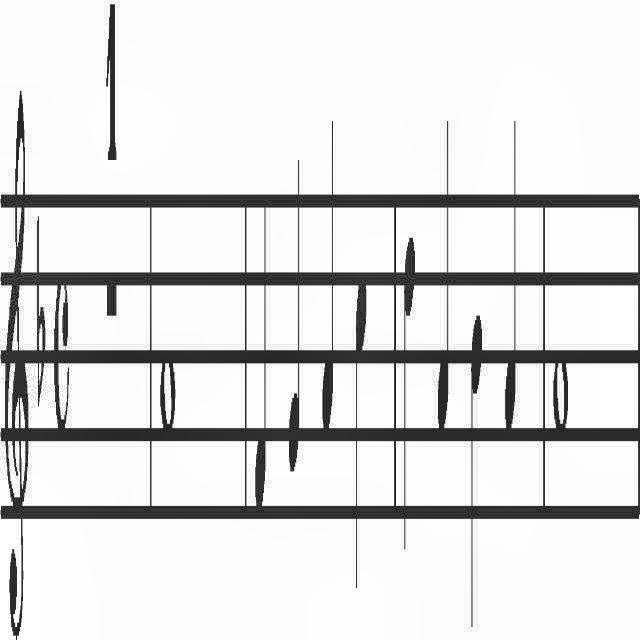Bass-clef: (4, 82, 30, 640)
Bemol: (36, 202, 46, 418)
Full-note: (160, 344, 176, 444), (553, 351, 569, 441)
Quarter-note: (504, 110, 518, 444), (402, 231, 416, 557), (436, 106, 449, 442), (354, 263, 366, 609), (255, 176, 267, 520), (322, 95, 334, 438), (288, 138, 300, 478), (470, 306, 482, 634)
